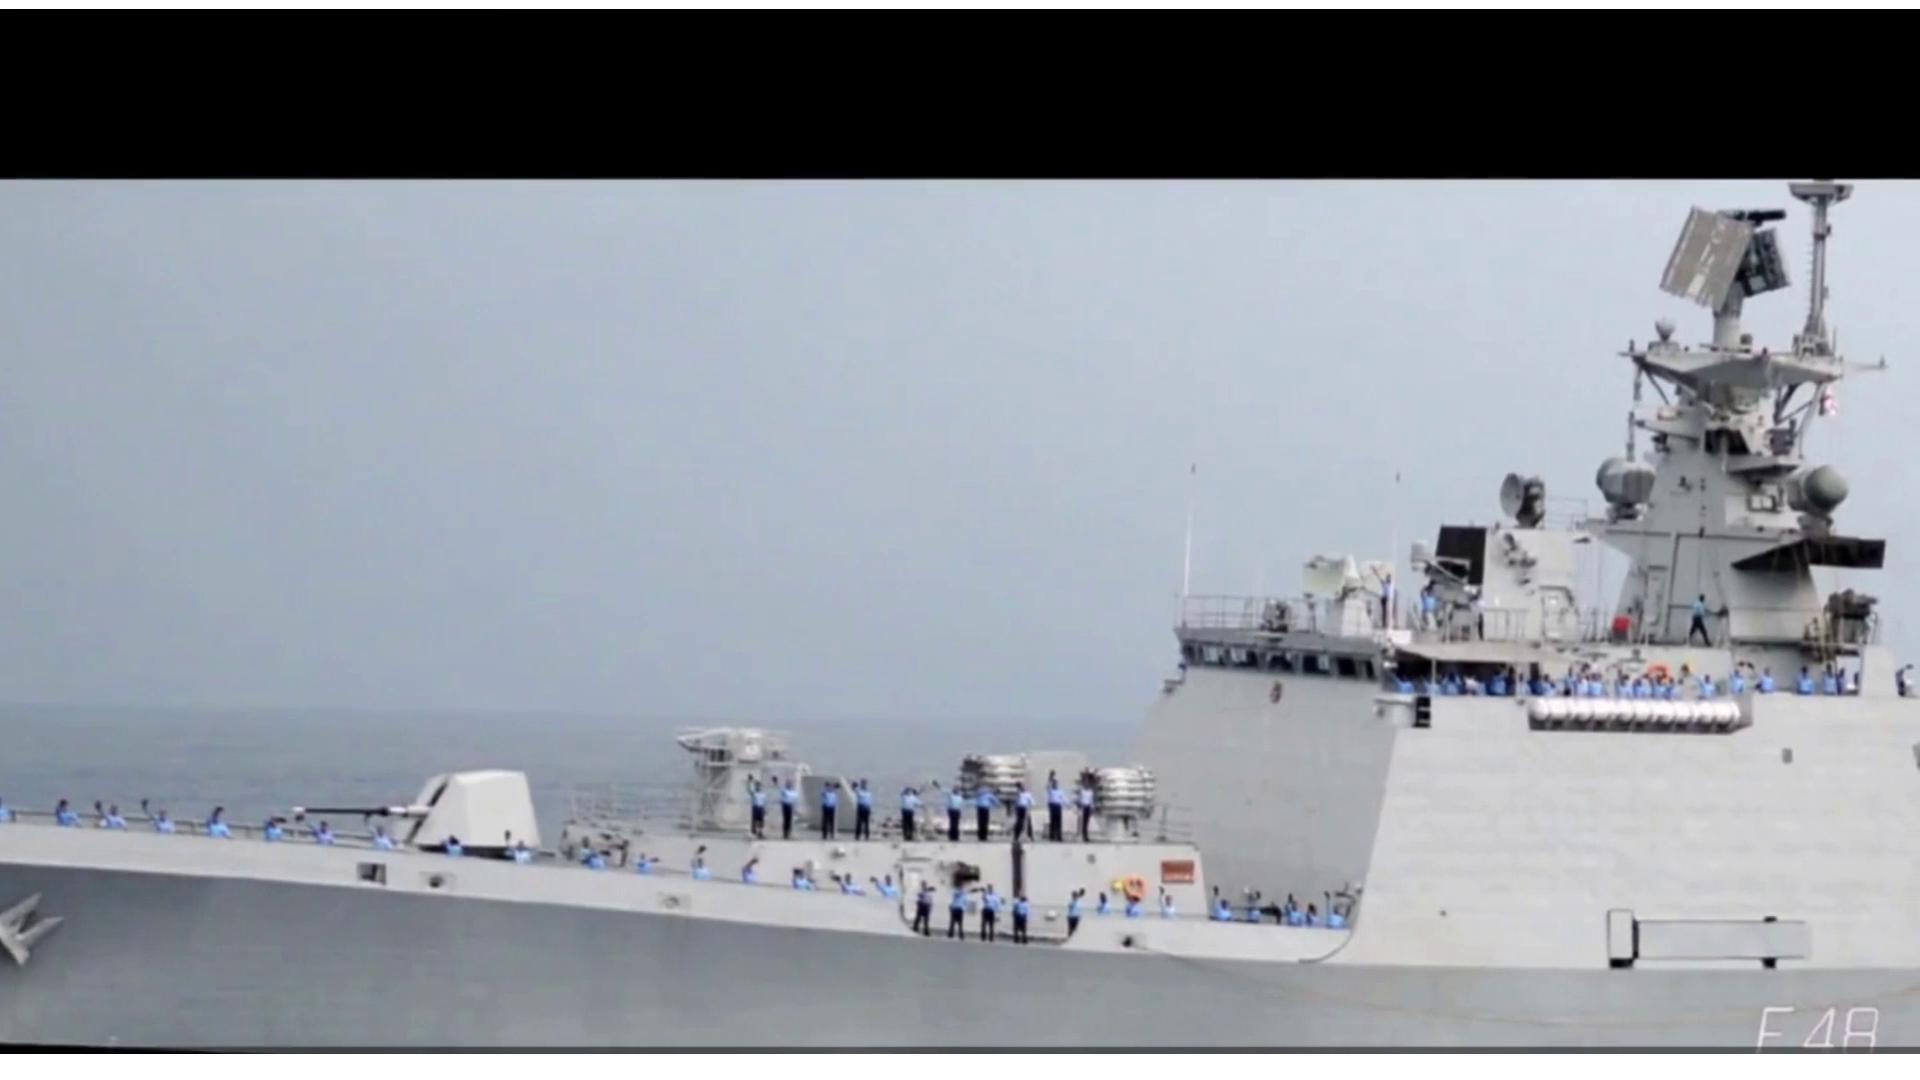OCR: (1733, 992, 1869, 1054)
